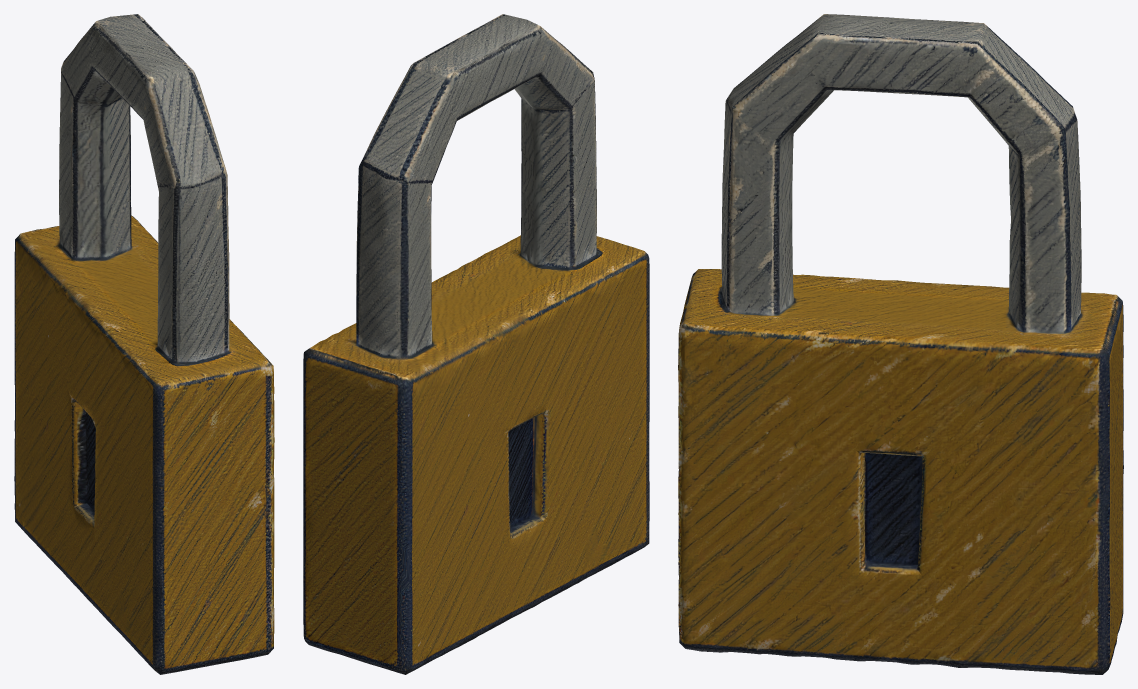
The model's file is ChasePadlock.fbx.
3 renders of one model, left to right at view 1: azimuth 30°, elevation 25°; view 2: azimuth 150°, elevation 25°; view 3: azimuth 270°, elevation 25°, orthographic. The views are drawn at different scales.
Visible parts, largest first — view 1: tripo_node_b273e220-1785-4b99-a70a-9f1d7047557b; view 2: tripo_node_b273e220-1785-4b99-a70a-9f1d7047557b; view 3: tripo_node_b273e220-1785-4b99-a70a-9f1d7047557b.
Boxes of the visible parts, <box> form: tripo_node_b273e220-1785-4b99-a70a-9f1d7047557b: <box>14,14,274,674</box>; tripo_node_b273e220-1785-4b99-a70a-9f1d7047557b: <box>303,14,649,674</box>; tripo_node_b273e220-1785-4b99-a70a-9f1d7047557b: <box>678,14,1123,674</box>.
Size of the model in its own units: 30.72 by 100 by 66.31.
1 material, 1 textured.
